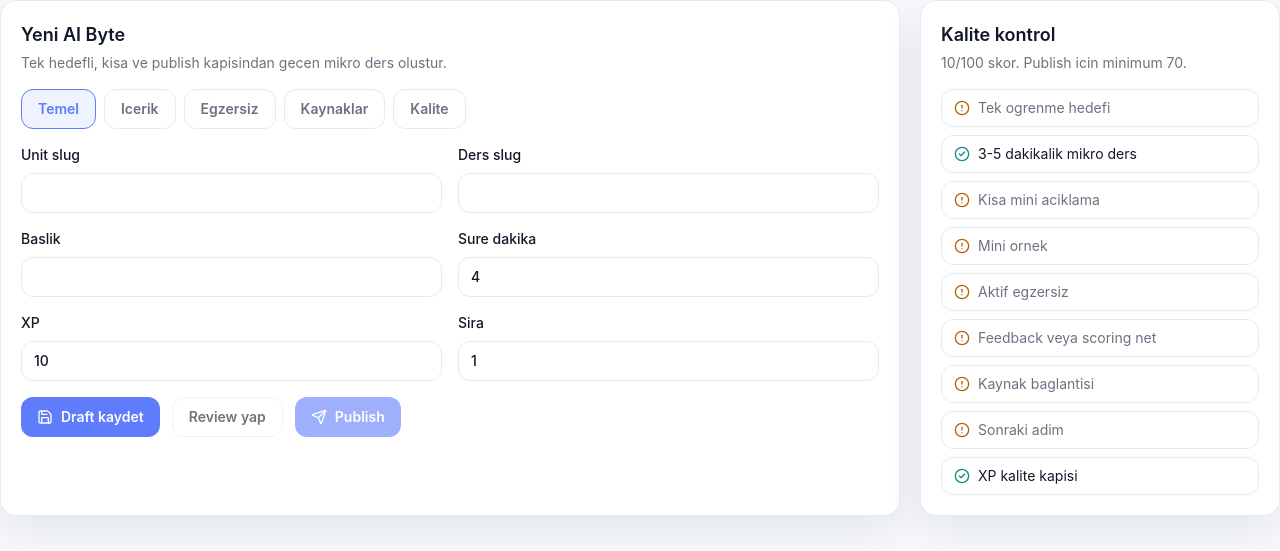
Test: Lesson editor validates required fields
Click the button "Draft kaydet" at (90, 417), box [21,397,160,437]
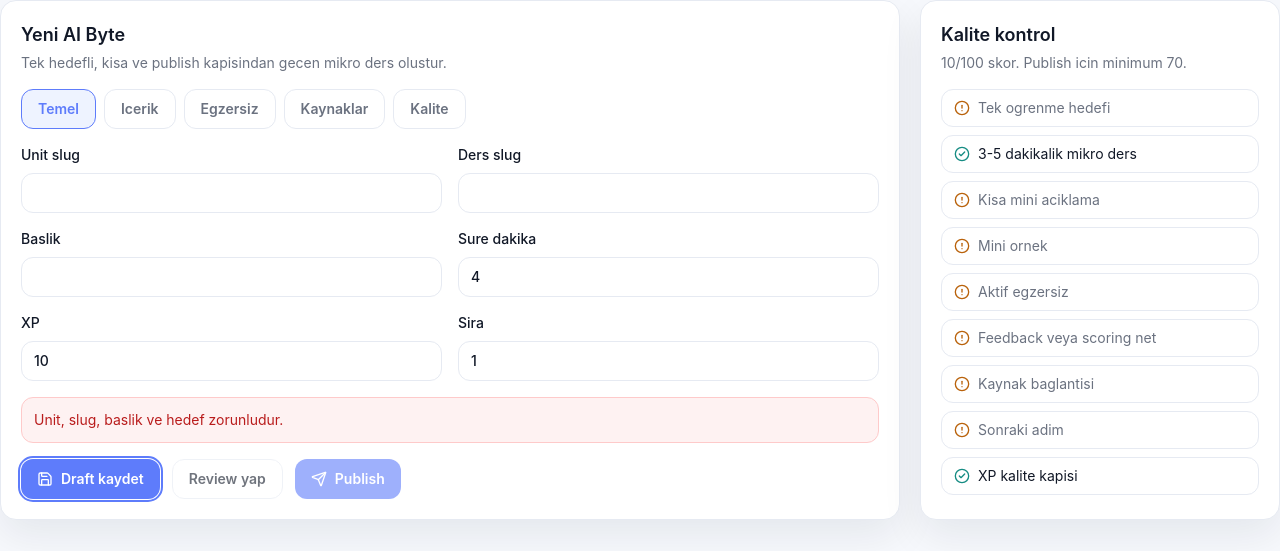
Now the message reads "Unit, slug, baslik ve hedef zorunludur.", box [34,411,283,428]
